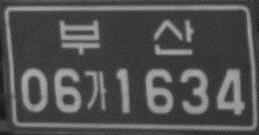0: (18, 67, 51, 113)
1: (112, 66, 133, 115)
3: (179, 66, 210, 116)
4: (215, 67, 248, 118)
6: (144, 67, 175, 116), (52, 68, 84, 114)
가: (83, 69, 109, 111)
부산_D: (57, 17, 196, 57)
